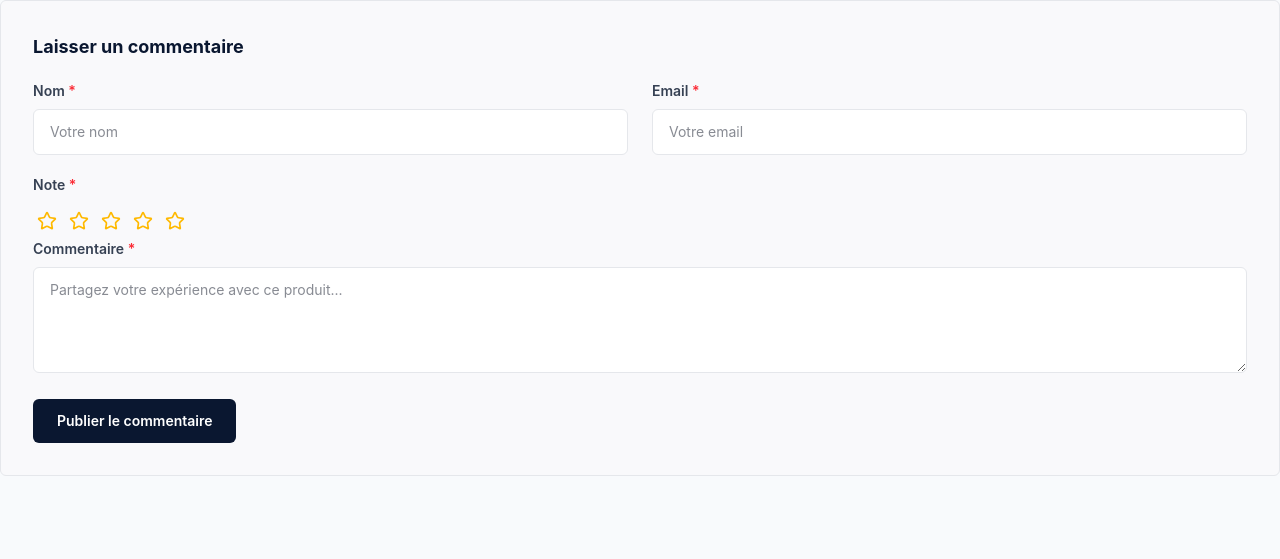
ReviewForm › erreur si email invalide
This screenshot has width=1280, height=559.
Type "Jean Dupont" into the field labelled "Nom *".
click(330, 132); type("Jean Dupont")  # box [33, 109, 628, 155]
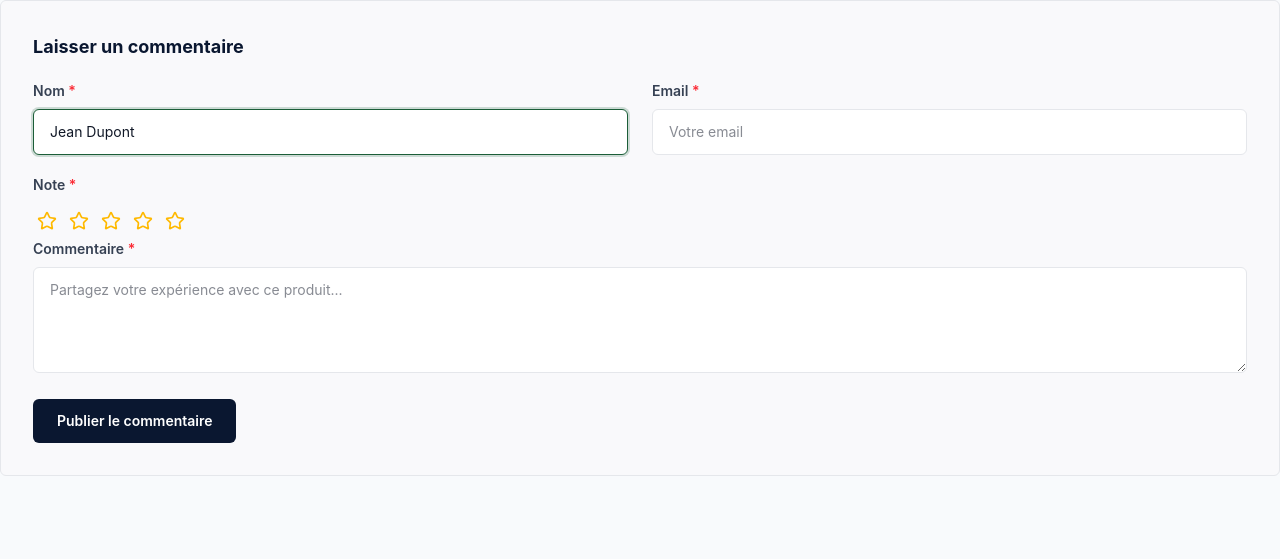
Type "pas-un-email" into the field labelled "Email *".
click(950, 132); type("pas-un-email")  # box [652, 109, 1247, 155]
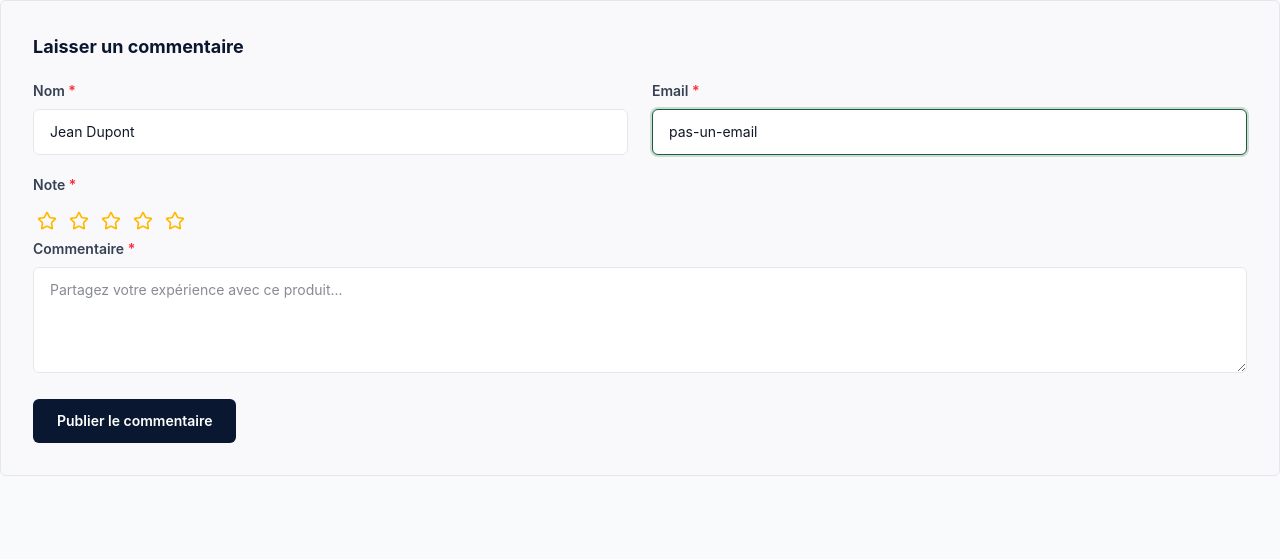
Type "Excellent produit" into the text box labelled "Commentaire *".
click(640, 320); type("Excellent produit")  # box [33, 267, 1247, 373]
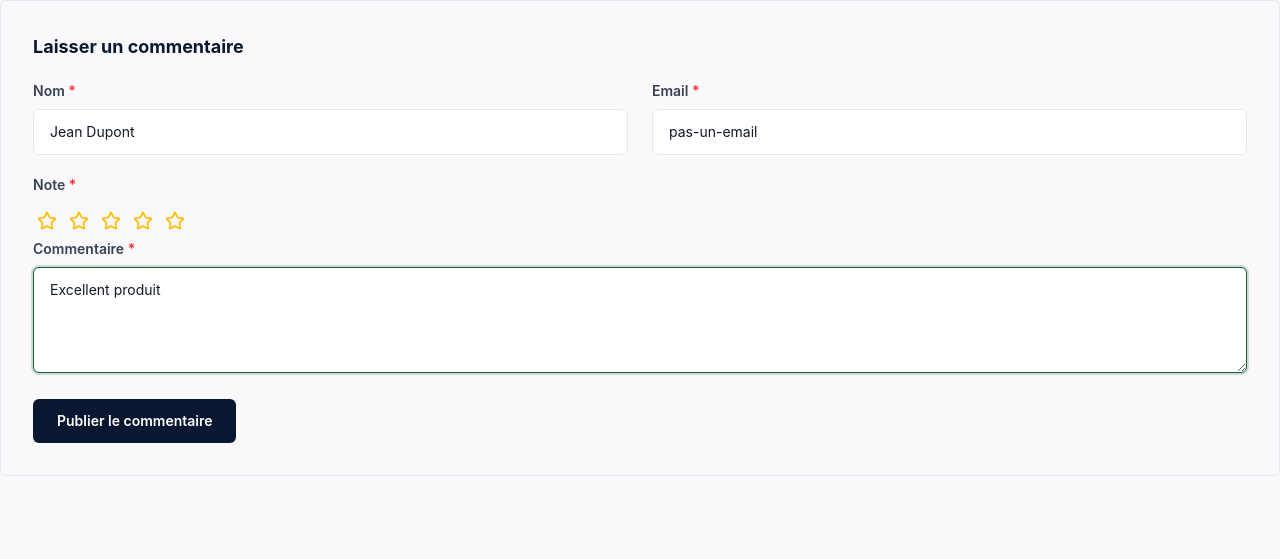
Click the button named "3 étoiles sur 5".
click(111, 221)  # box [97, 207, 125, 235]
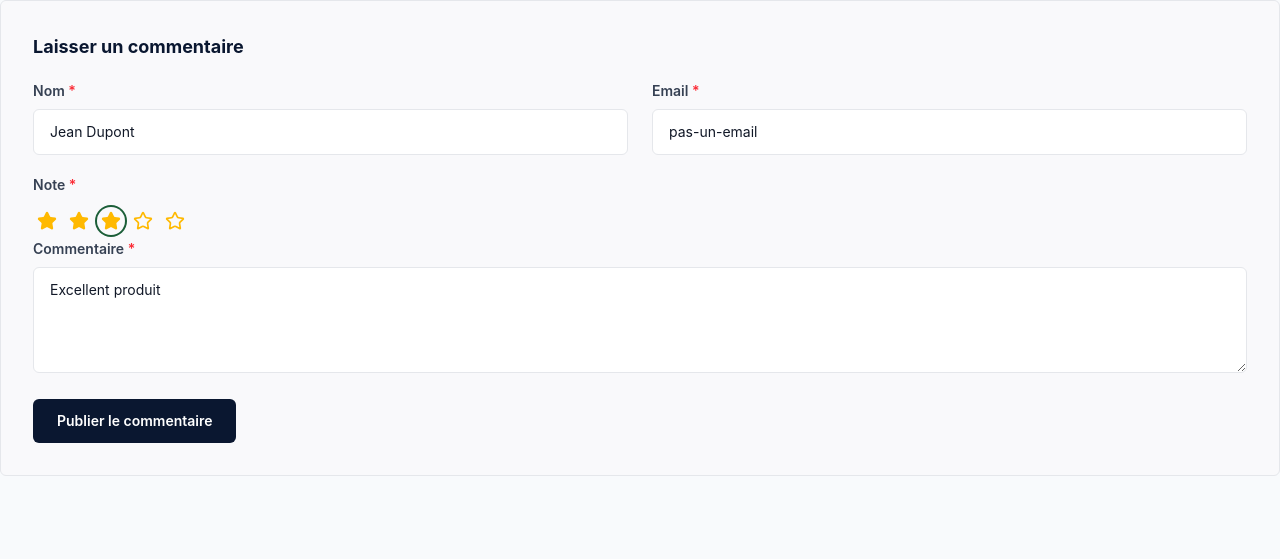
Click the button "Publier le commentaire".
click(135, 421)  # box [33, 399, 236, 443]
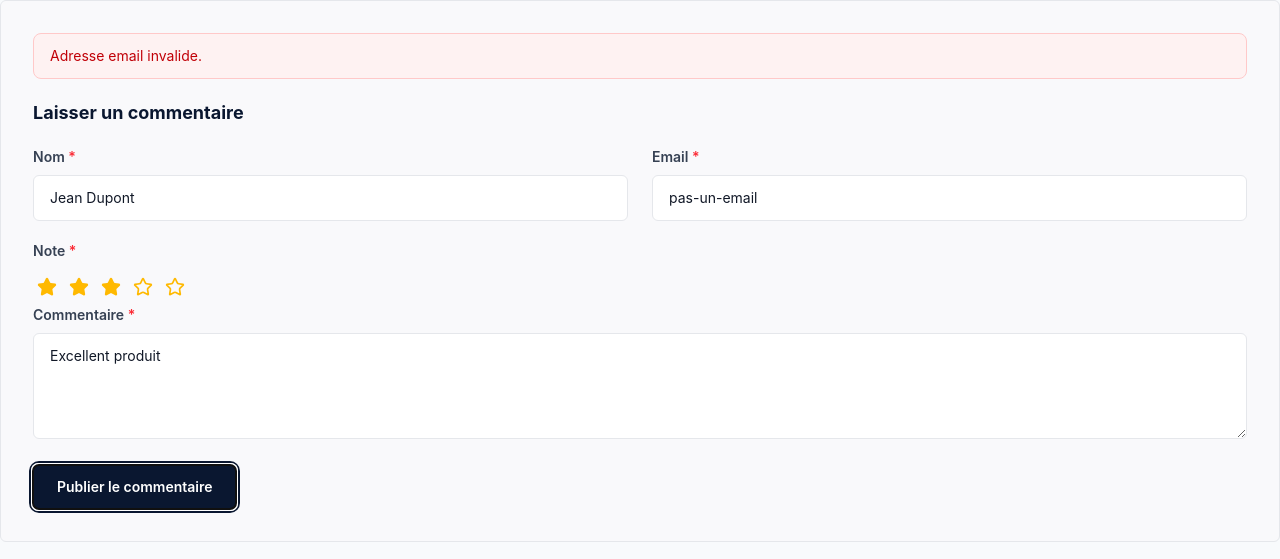
Expected: the message shows "email invalide", [50, 47, 202, 64]
